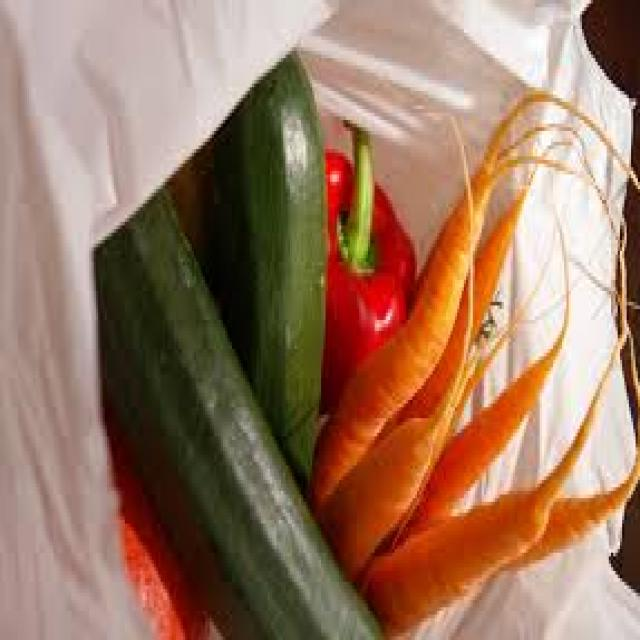organic waste: (308, 84, 638, 516), (105, 200, 381, 636), (314, 113, 470, 585), (373, 262, 573, 556), (210, 43, 328, 506), (359, 448, 638, 636), (384, 174, 526, 426), (319, 120, 412, 415), (111, 396, 208, 636), (163, 138, 216, 284)
